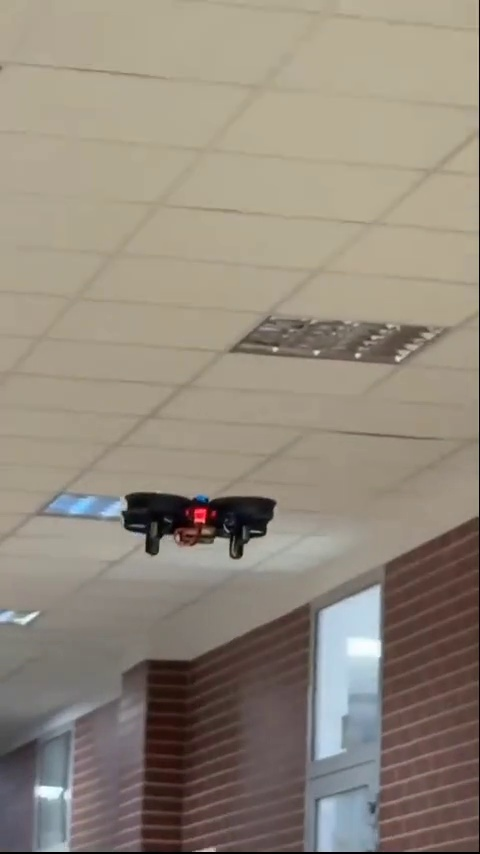drone: (116, 482, 286, 565)
